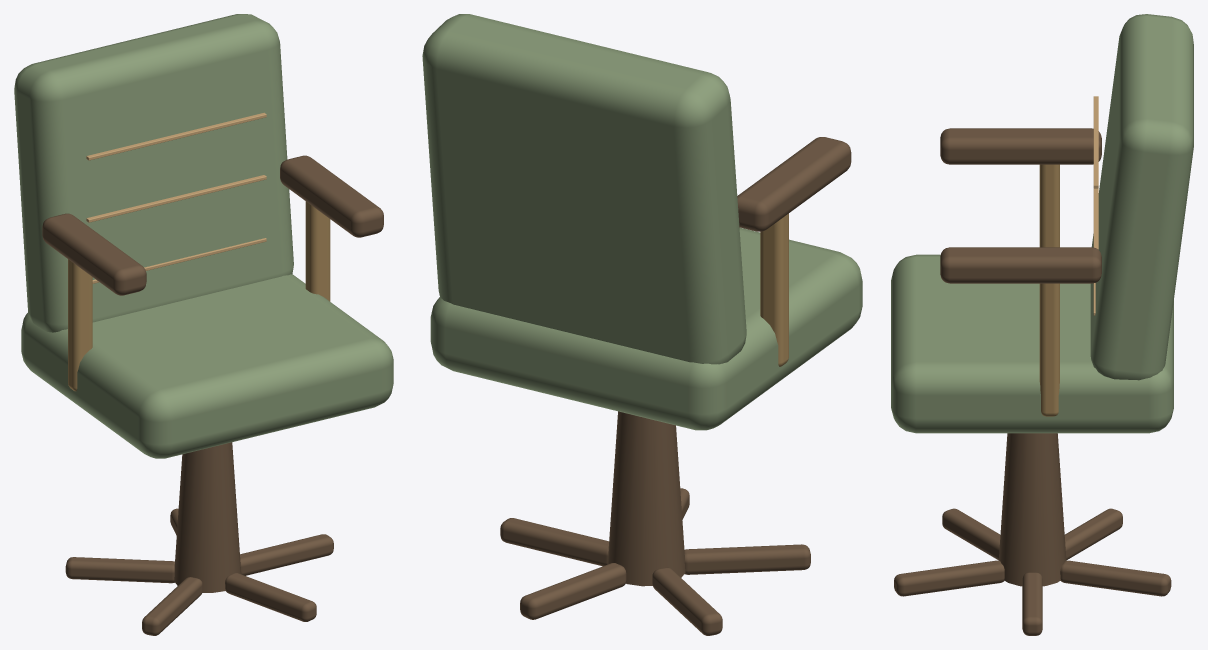
The model's file is chairdesk.glb.
3 renders of one model, left to right at view 1: azimuth 30°, elevation 25°; view 2: azimuth 150°, elevation 25°; view 3: azimuth 270°, elevation 25°, orthographic. The views are drawn at different scales.
Parts seen in each view (by area): view 1: atelier-warm-chairdesk; view 2: atelier-warm-chairdesk; view 3: atelier-warm-chairdesk.
Boxes of the visible parts, box(x1,y1,x2,y2) form: atelier-warm-chairdesk: box(14, 14, 393, 635); atelier-warm-chairdesk: box(422, 14, 862, 635); atelier-warm-chairdesk: box(891, 14, 1193, 635).
Size of the model in its own units: 0.5657 by 0.9946 by 0.5365.
